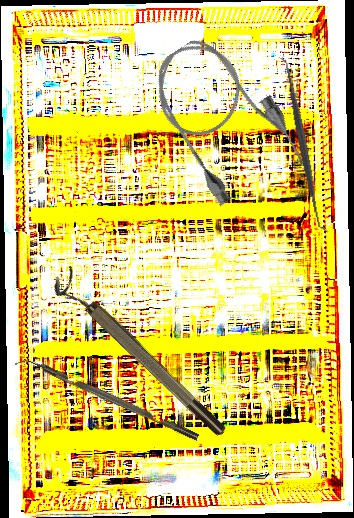Cannula: (136, 20, 312, 215)
Chopper: (13, 351, 200, 450)
Fixation Ring: (47, 264, 231, 448)
Spatula Surgical: (276, 54, 331, 236)
